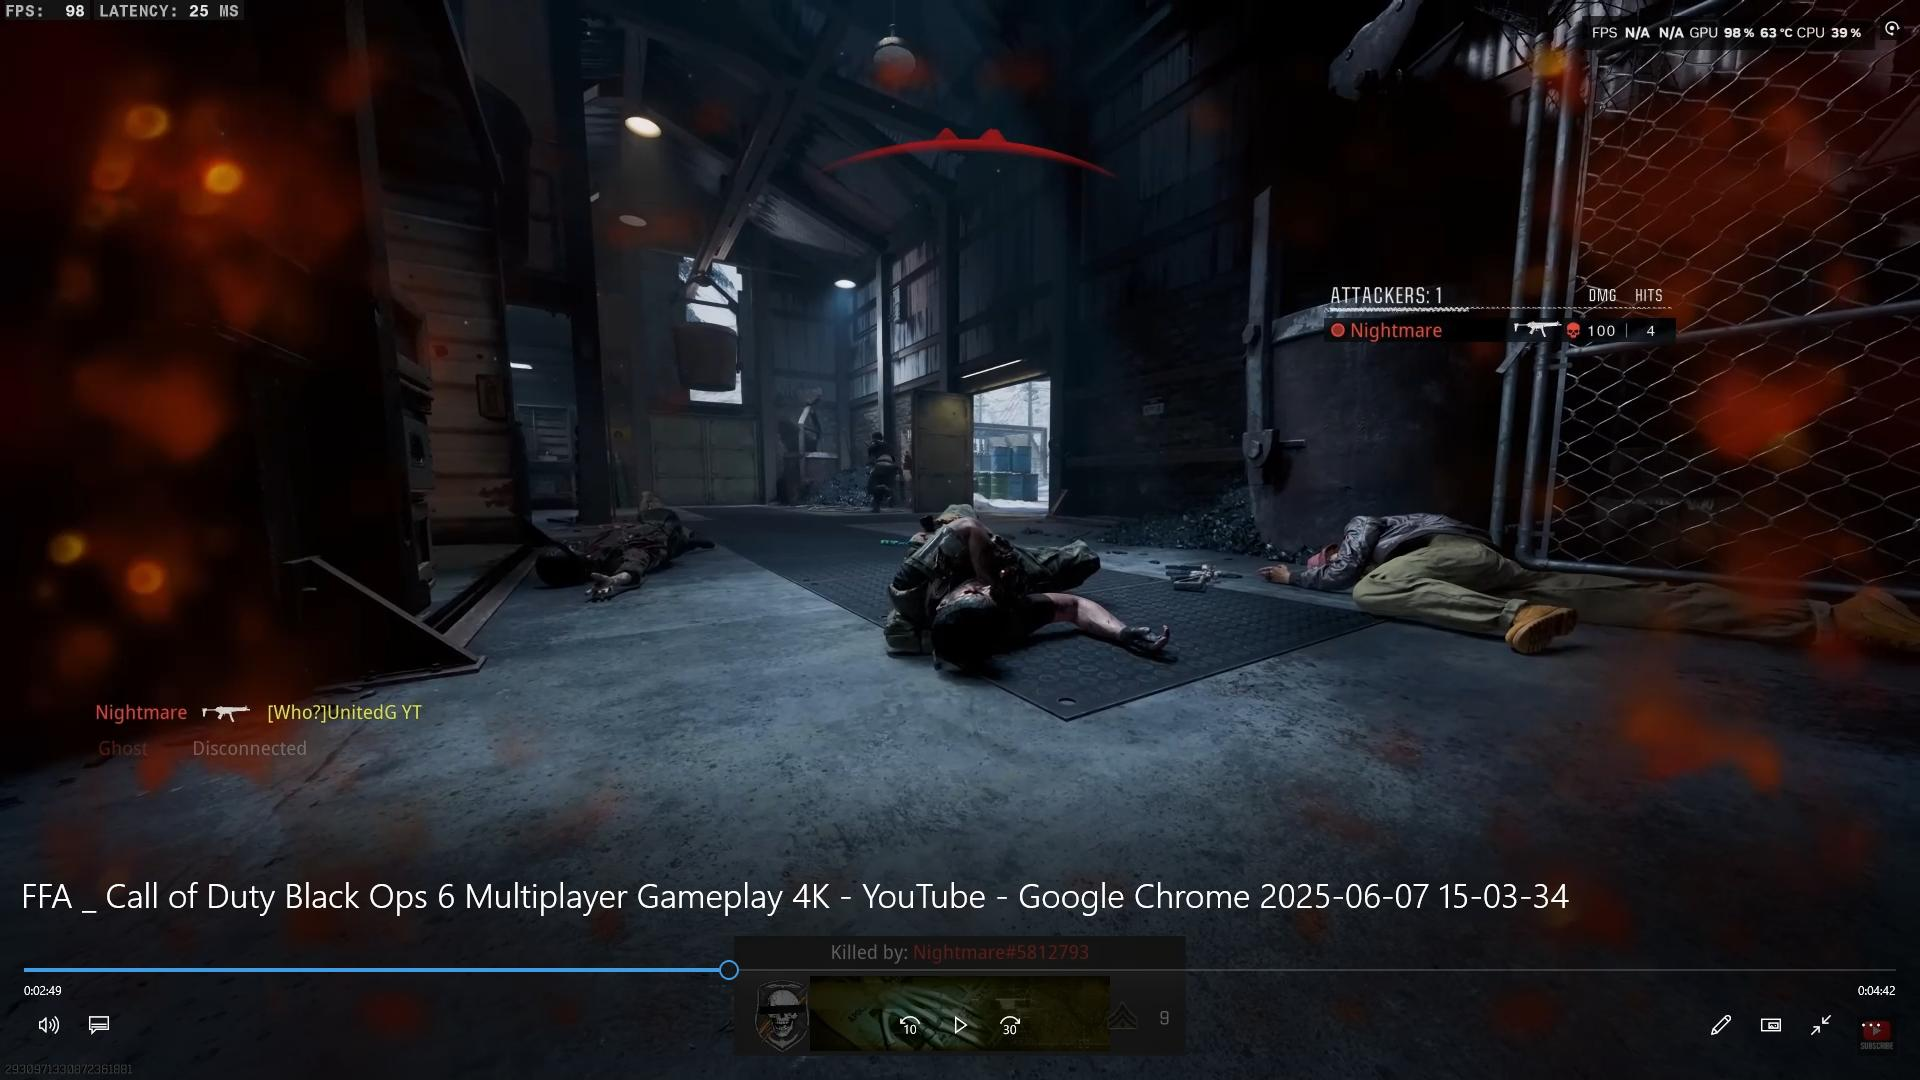Enemy: (852, 423, 903, 510)
